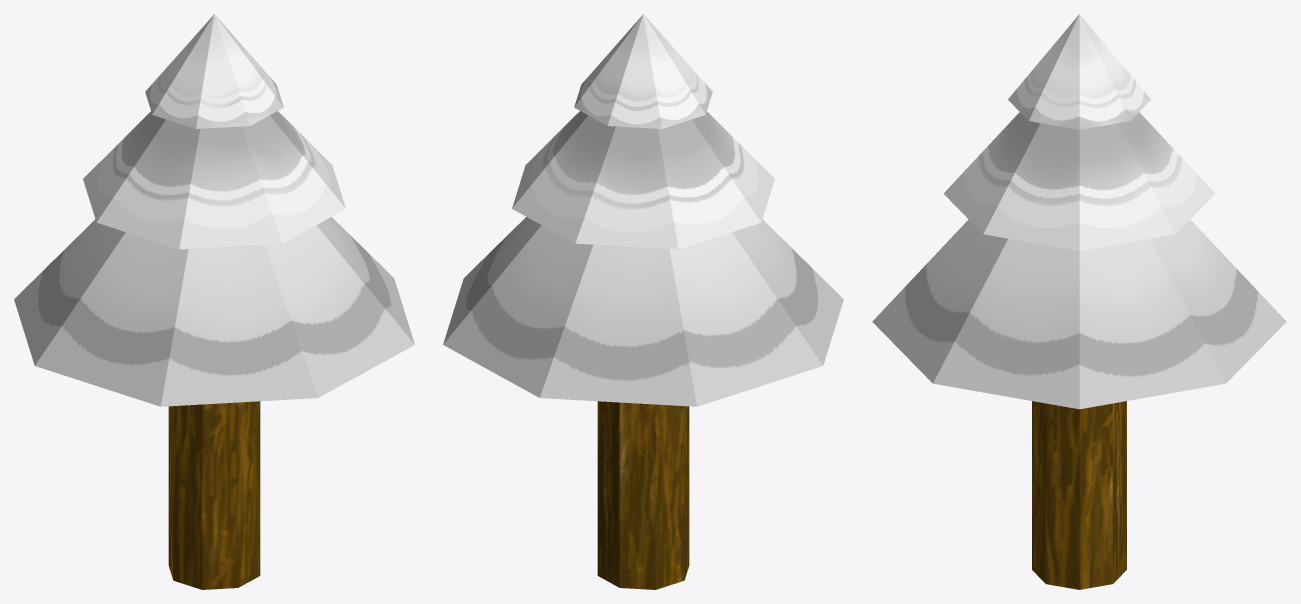
The model's file is TreeWinter.fbx.
The picture shows the model from 3 angles, left to right: view 1: azimuth 30°, elevation 25°; view 2: azimuth 150°, elevation 25°; view 3: azimuth 270°, elevation 25°; orthographic projection.
Parts seen in each view (by area): view 1: pCylinder1; view 2: pCylinder1; view 3: pCylinder1.
Part boxes in pixels (x1,y1,x2,y2): pCylinder1: [14, 14, 414, 589]; pCylinder1: [443, 14, 843, 589]; pCylinder1: [872, 14, 1286, 589].
Size of the model in its own units: 8.74 by 12.93 by 8.74.
1 material, 1 textured.
